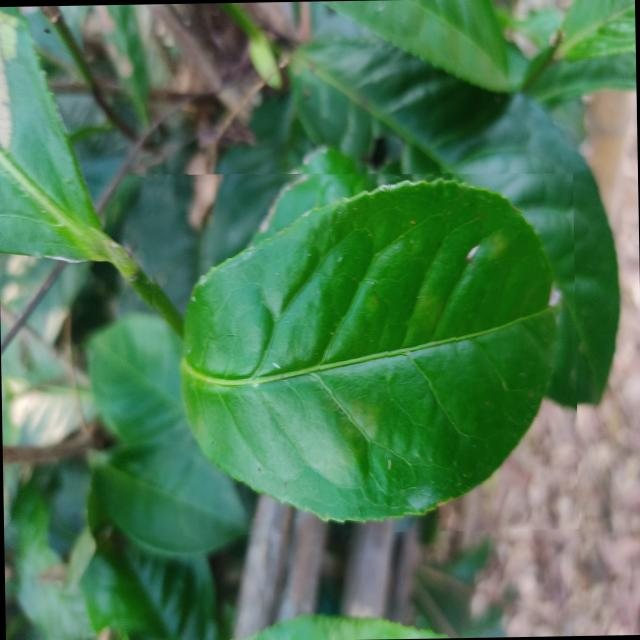Category D(7+ days, Not for Tea): (143, 166, 579, 535)
